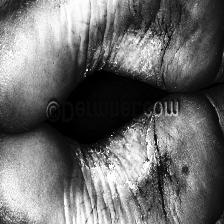Non-Cancerous Skin Condition: (137, 150, 192, 224), (128, 1, 188, 44)
